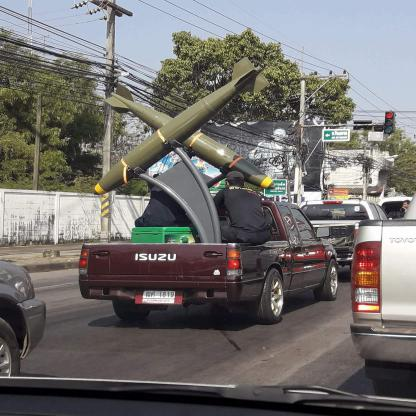overloaded-truck: (72, 43, 390, 326)
